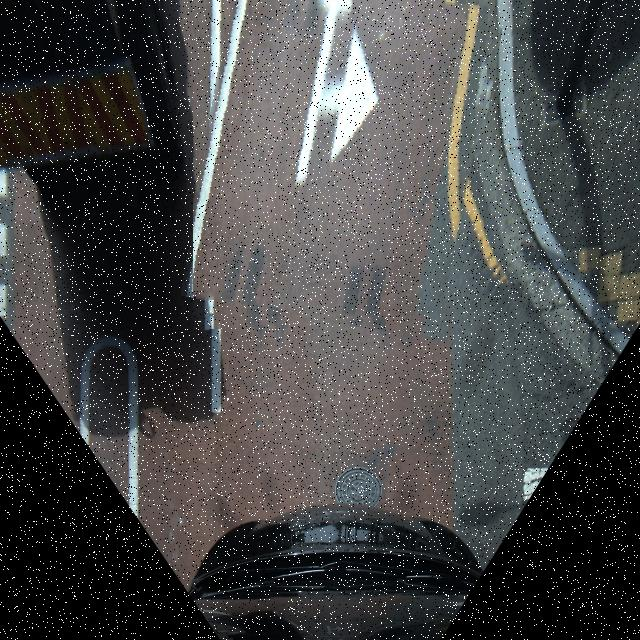forward_right: (193, 0, 489, 331)
